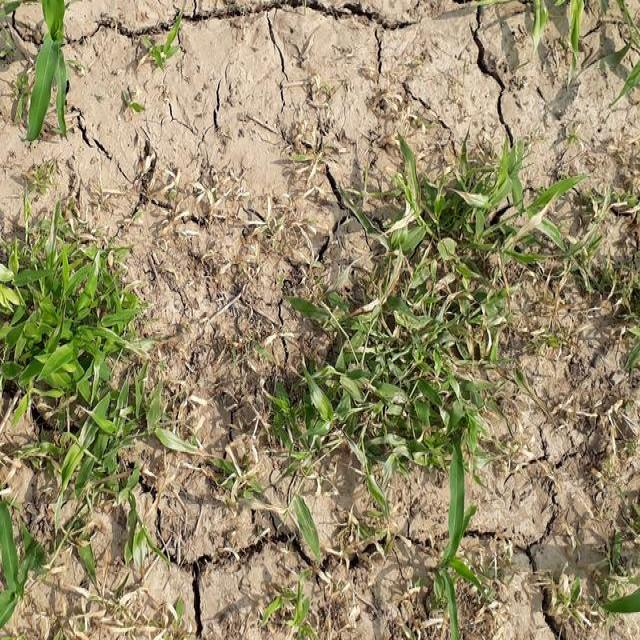weed: (264, 153, 594, 468), (0, 237, 153, 542)
